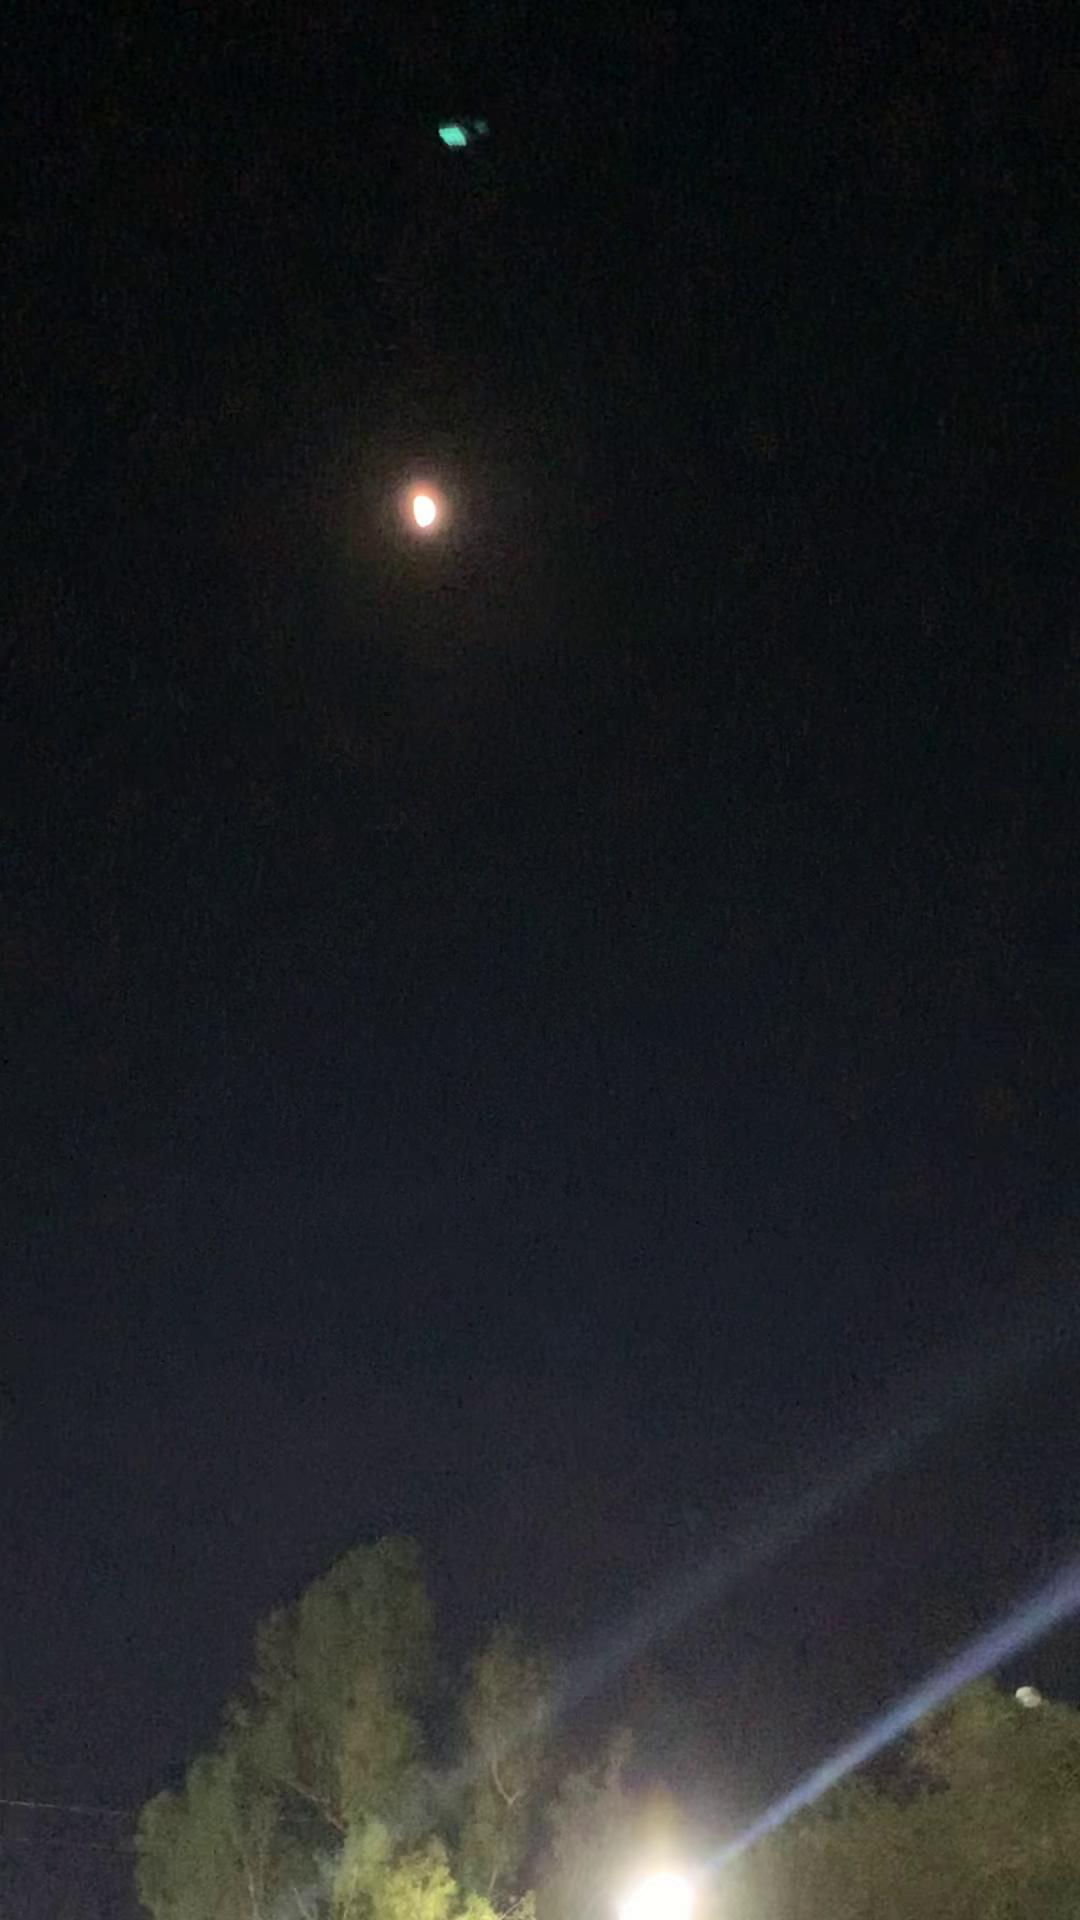moon: (388, 476, 464, 555)
